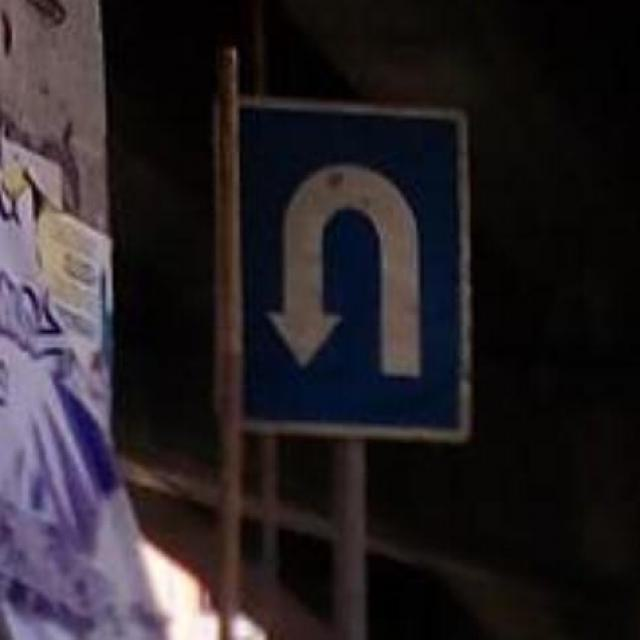U-turn: (245, 107, 463, 434)
